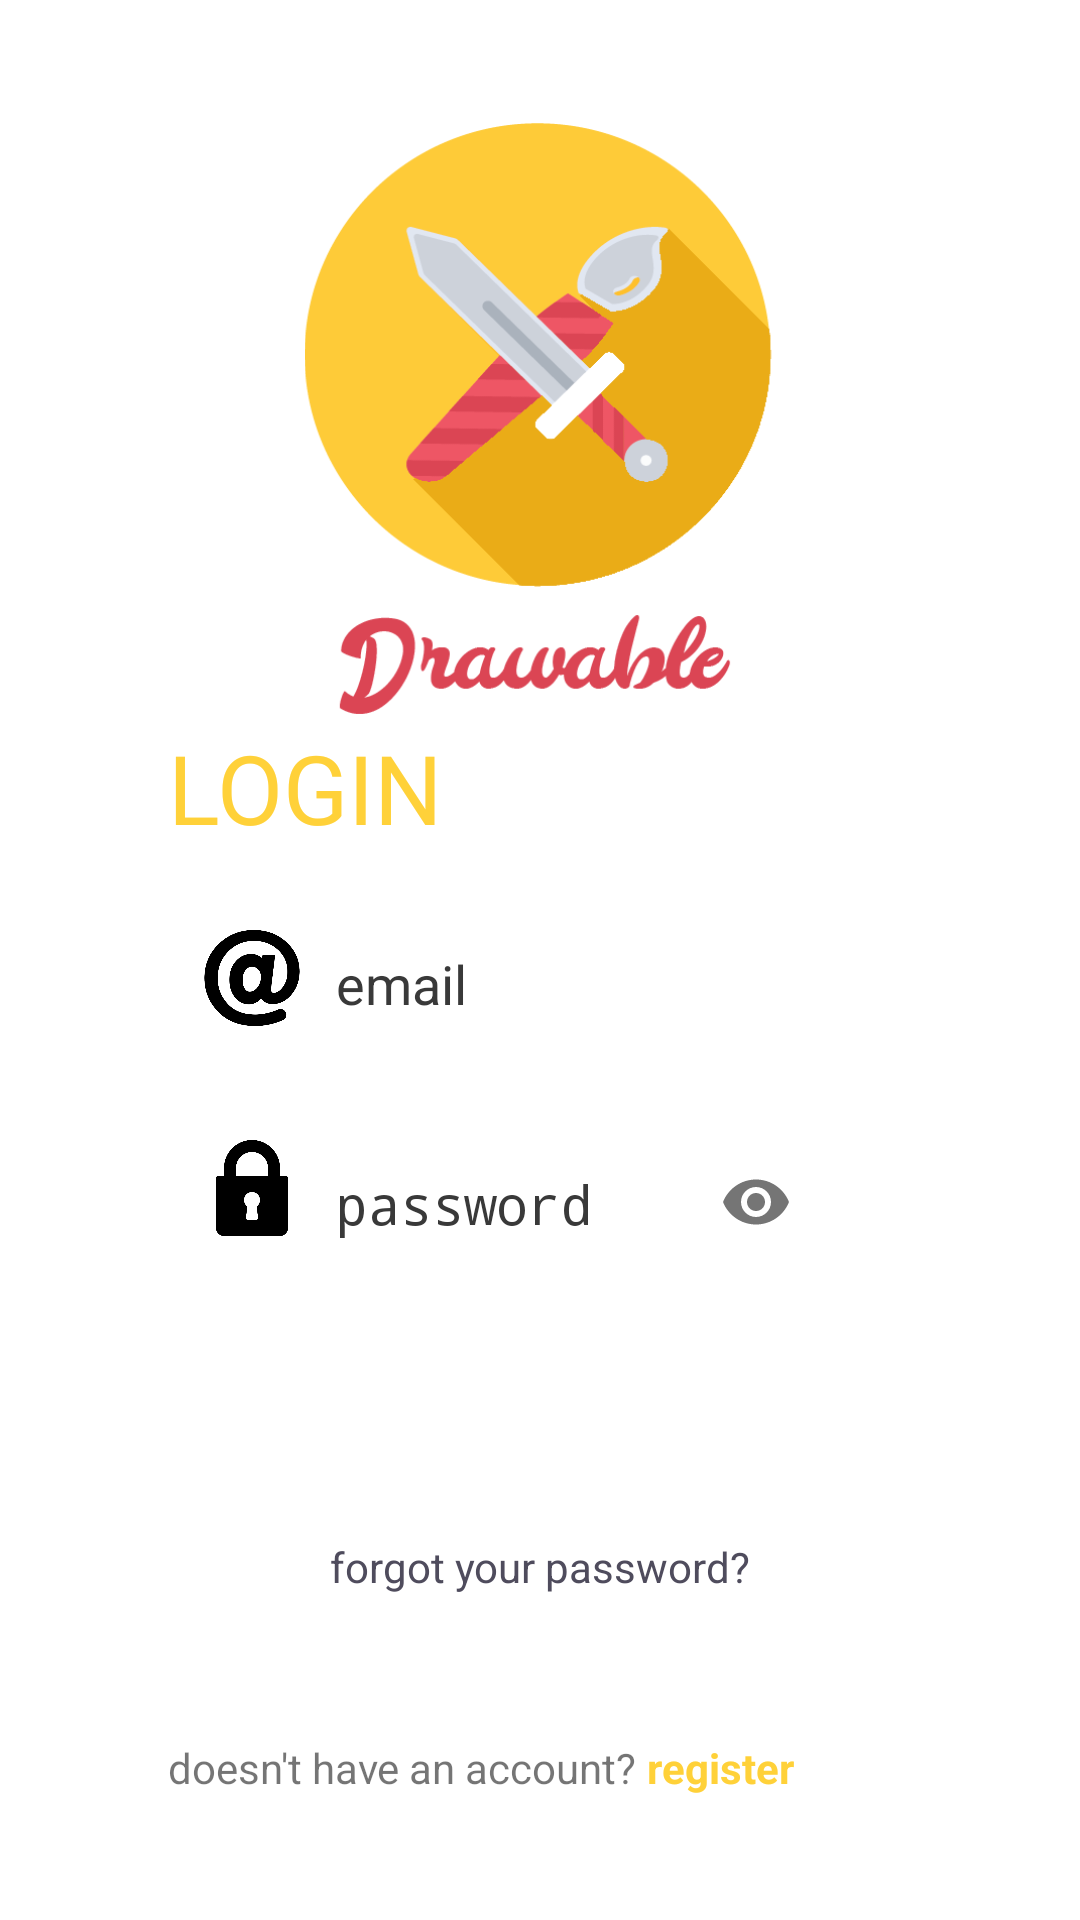

Icon bounding boxes for this 1080 × 1920 phone screenshot, format (x1, y1, x2, y2):
lock: (216, 1140, 288, 1236)
